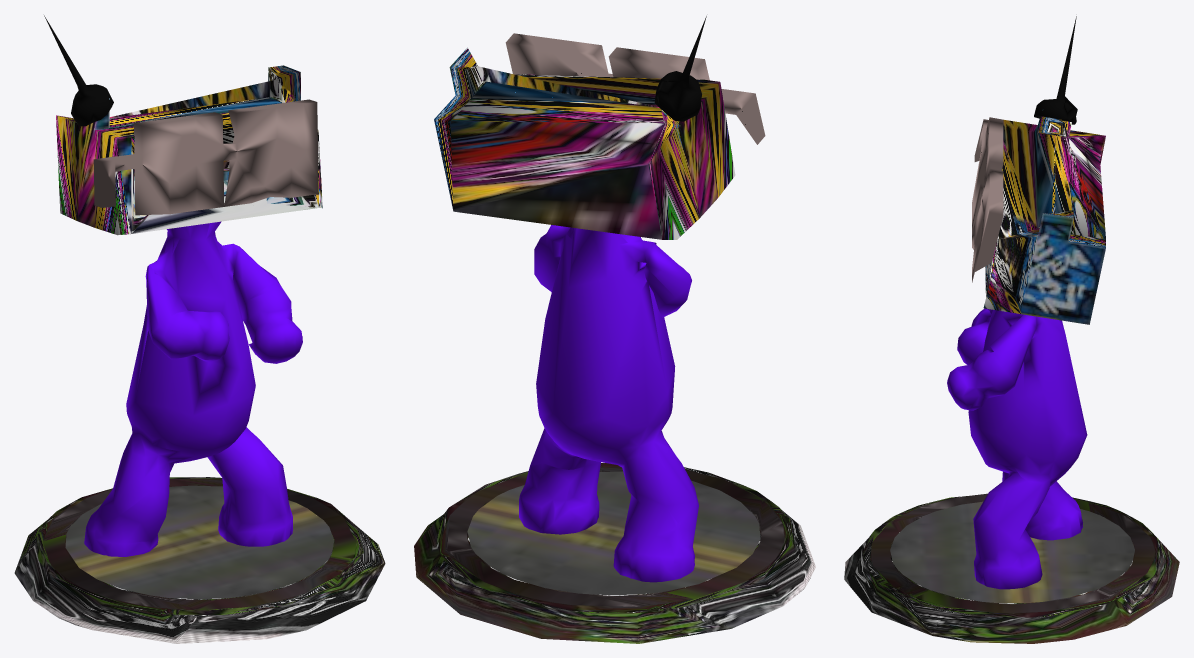
3 views of the same model, side by side, from view 1: azimuth 30°, elevation 25°; view 2: azimuth 150°, elevation 25°; view 3: azimuth 270°, elevation 25° (orthographic). The views are drawn at different scales.
Size of the model in its own units: 1.44 by 2.39 by 1.44.
Materials: 6 (4 with a texture image).
